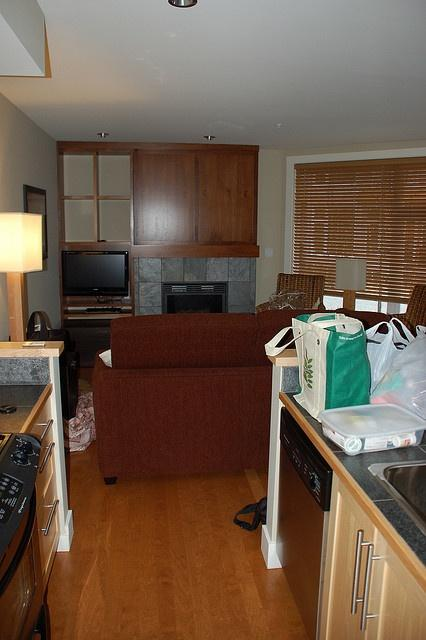AIO PC-Monitor-TV: (59, 249, 128, 297)
